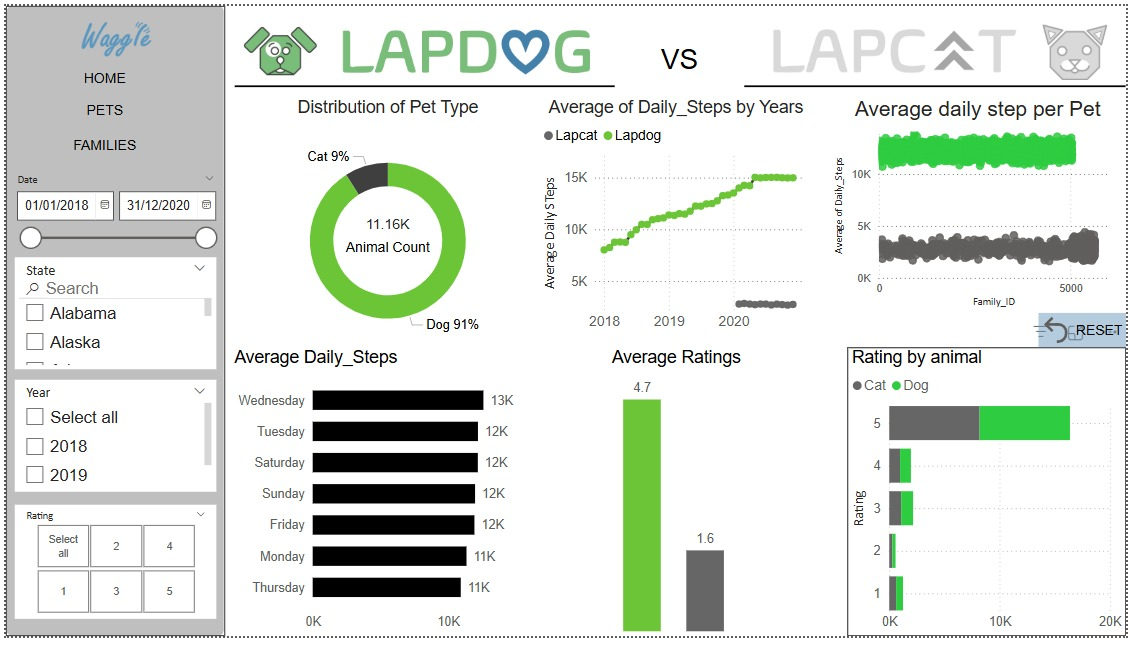

This screenshot's page, from the dashboard's own definition file:
{"tool":"powerbi","page":{"name":"1st page, Home","canvas":[1280,720],"ordinal":0},"visuals":[{"type":"shape","box":[0,0,250,720],"z":0,"group":"g1"},{"type":"image","box":[266.7,6.7,93.3,88.3],"z":0},{"type":"image","box":[1180,8.3,83.3,88.3],"z":1000},{"type":"donutChart","title":"Distribution of Pet Type","fields":{"Y":["CountNonNull(Pet_Data.Pet_ID)"],"Category":["Pet_Data.Dog/Cat"]},"box":[290,104.3,292.9,305.7],"z":2000},{"type":"shape","box":[262,26,1018,132],"z":3000},{"type":"image","box":[870,0,290.9,101.5],"z":4000},{"type":"card","fields":{"Values":["CountNonNull(Pet_Data.Pet_ID)"]},"box":[619.5,298.6,94.3,71.4],"z":5000},{"type":"image","box":[378.3,1.7,295,101.7],"z":6000},{"type":"clusteredColumnChart","title":"Average Ratings","fields":{"Category":["Rating_Data.Device_Type"],"Y":["Avg(Rating_Data.Rating)"],"Series":["Pet_Data.Dog/Cat"]},"box":[600,389.4,331.8,330.3],"z":7000},{"type":"image","box":[50,13.3,151.7,50],"z":8000,"group":"g1"},{"type":"lineChart","title":"Average of Daily_Steps by Years","fields":{"Y":["Avg(Tracker_Data.Daily_Steps)"],"Category":["Tracker_Data.Activity_Date"],"Series":["Rating_Data.Device_Type"]},"box":[608,104,314,274],"z":8000},{"type":"actionButton","box":[63.3,63.3,100,40],"z":9000,"group":"g1"},{"type":"barChart","title":"Rating by animal","fields":{"Category":["Rating_Data.Rating"],"Y":["CountNonNull(Rating_Data.Rating)"],"Series":["Pet_Data.Dog/Cat"]},"box":[961.7,390,318.3,330],"z":9000},{"type":"actionButton","box":[63.3,98.3,100,40],"z":10000,"group":"g1"},{"type":"clusteredBarChart","title":"Average Daily_Steps","fields":{"Category":["Date_Table.Day_of_Week"],"Y":["Avg(Tracker_Data.Daily_Steps)"]},"box":[255,390,345,330],"z":10000},{"type":"actionButton","box":[63.3,138.3,100,40],"z":11000,"group":"g1"},{"type":"actionButton","box":[1180,350,100,40],"z":11000},{"type":"group","id":"g1","title":"Group 2","box":[0,0,250,720],"z":12000},{"type":"scatterChart","title":"Average daily step per Pet","fields":{"Y":["Avg(Tracker_Data.Daily_Steps)"],"X":["Tracker_Data.Family_ID"],"Series":["Pet_Data.Dog/Cat"]},"box":[942,104,338,246],"z":13000},{"type":"slicer","fields":{"Values":["Family_Data.State"]},"box":[10,286.7,230,128.3],"z":13000,"group":"g1"},{"type":"textbox","box":[696,38,148,62],"z":14000},{"type":"slicer","fields":{"Values":["Date_Table.Date"]},"box":[0,186.4,250,100],"z":15000,"group":"g1"},{"type":"card","fields":{"Values":["CountNonNull(Pet_Data.Dog/Cat)"]},"box":[375.7,221.4,121.4,77.1],"z":15000},{"type":"slicer","fields":{"Values":["Date_Table.Year"]},"box":[10,426.7,230,128.3],"z":16000,"group":"g1"},{"type":"slicer","fields":{"Values":["Rating_Data.Rating"]},"box":[10,570,230,130],"z":17000,"group":"g1"}]}

Visuals, with their boxes in screenshot pixels (x1, y1, x2, y2), scaled from the page's 1280x720 canvas onto the 1130x645 screenshot:
shape: BBox(0, 0, 221, 644)
image: BBox(235, 6, 318, 85)
image: BBox(1042, 7, 1115, 87)
"Distribution of Pet Type" donutChart: BBox(256, 93, 515, 367)
shape: BBox(231, 23, 1129, 142)
image: BBox(768, 0, 1025, 91)
card - CountNonNull(Pet_Data.Pet_ID): BBox(547, 267, 630, 331)
image: BBox(334, 2, 594, 93)
"Average Ratings" clusteredColumnChart: BBox(530, 349, 823, 644)
image: BBox(44, 12, 178, 57)
"Average of Daily_Steps by Years" lineChart: BBox(537, 93, 814, 339)
actionButton: BBox(56, 57, 144, 93)
"Rating by animal" barChart: BBox(849, 349, 1129, 644)
actionButton: BBox(56, 88, 144, 124)
"Average Daily_Steps" clusteredBarChart: BBox(225, 349, 530, 644)
actionButton: BBox(56, 124, 144, 160)
actionButton: BBox(1042, 314, 1129, 349)
"Group 2" group: BBox(0, 0, 221, 644)
"Average daily step per Pet" scatterChart: BBox(832, 93, 1129, 314)
slicer - Family_Data.State: BBox(9, 257, 212, 372)
textbox: BBox(614, 34, 745, 90)
slicer - Date_Table.Date: BBox(0, 167, 221, 257)
card - CountNonNull(Pet_Data.Dog/Cat): BBox(332, 198, 439, 267)
slicer - Date_Table.Year: BBox(9, 382, 212, 497)
slicer - Rating_Data.Rating: BBox(9, 511, 212, 627)
